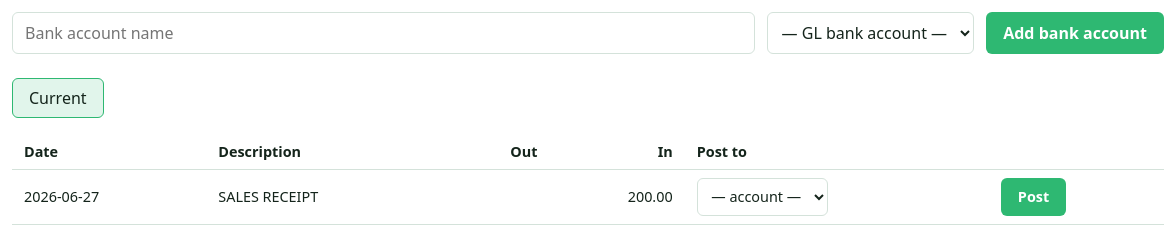
Test: CashbookScreen › posts a statement line against a chosen contra account
Expected: the text "SALES RECEIPT" is shown, x1=206 y1=169 x2=449 y2=225
# Choose the contra account (Sales) and post.
Select "4000 · Sales" in the dropdown named "Contra account for SALES RECEIPT" at (762, 197), box x1=697 y1=178 x2=828 y2=216
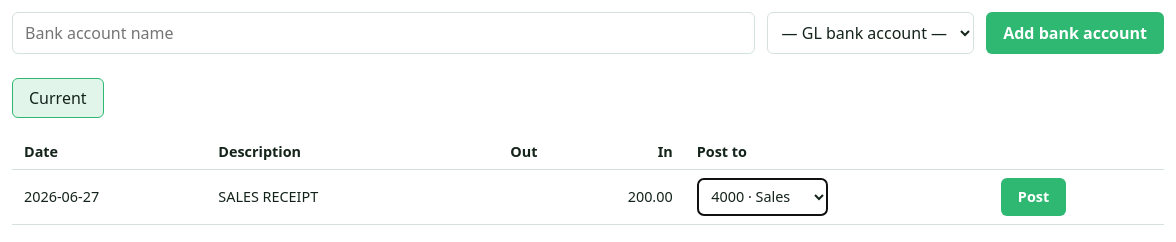
Click the button "Post".
click(1033, 197)  # box x1=1001 y1=178 x2=1066 y2=216
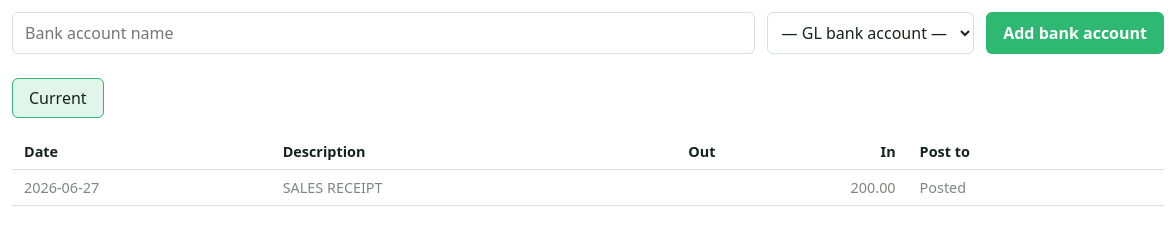
Expected: the text "Posted" is shown, x1=920 y1=178 x2=966 y2=197
